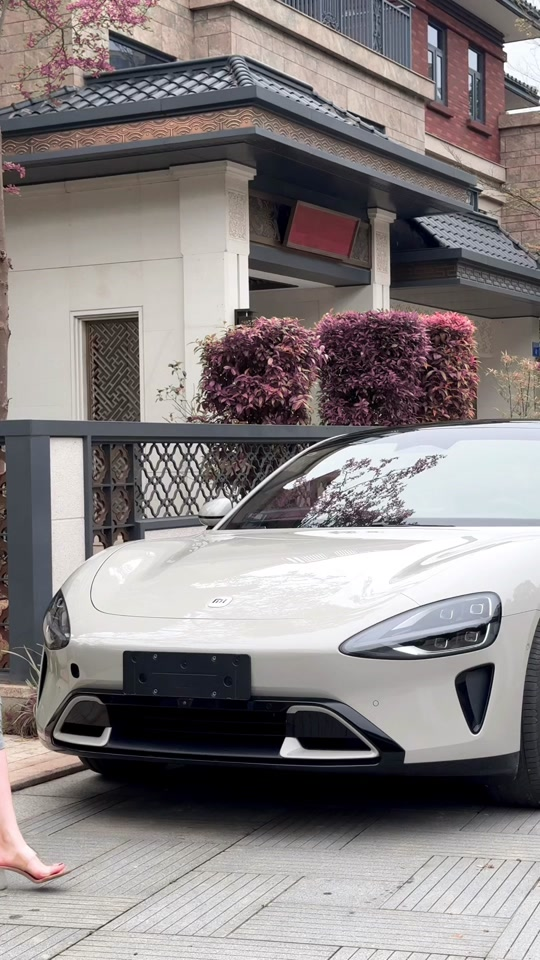su7: (39, 416, 540, 815)
